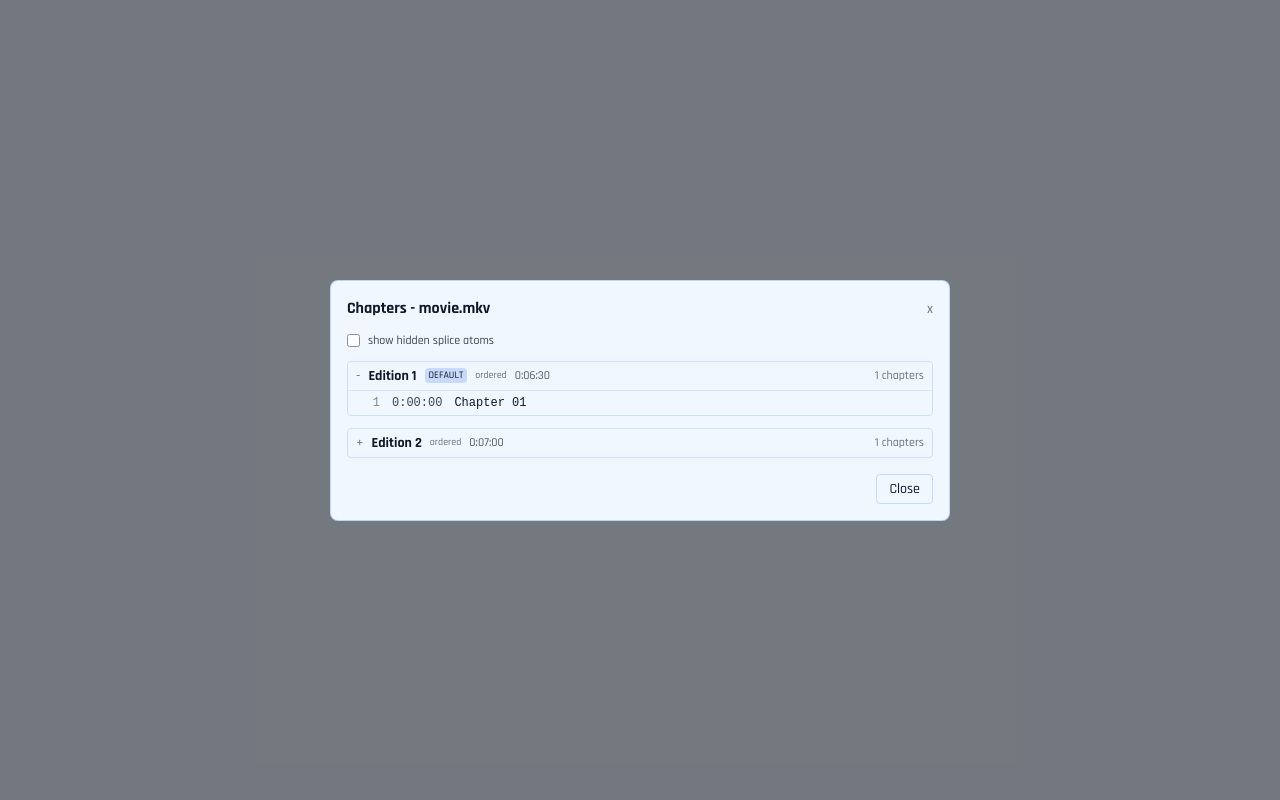
Test case: ChaptersModal › reveals hidden splice atoms when the toggle is checked
Click the checkbox labelled "show hidden splice atoms". click: click(354, 340)
box: [347,334,360,347]
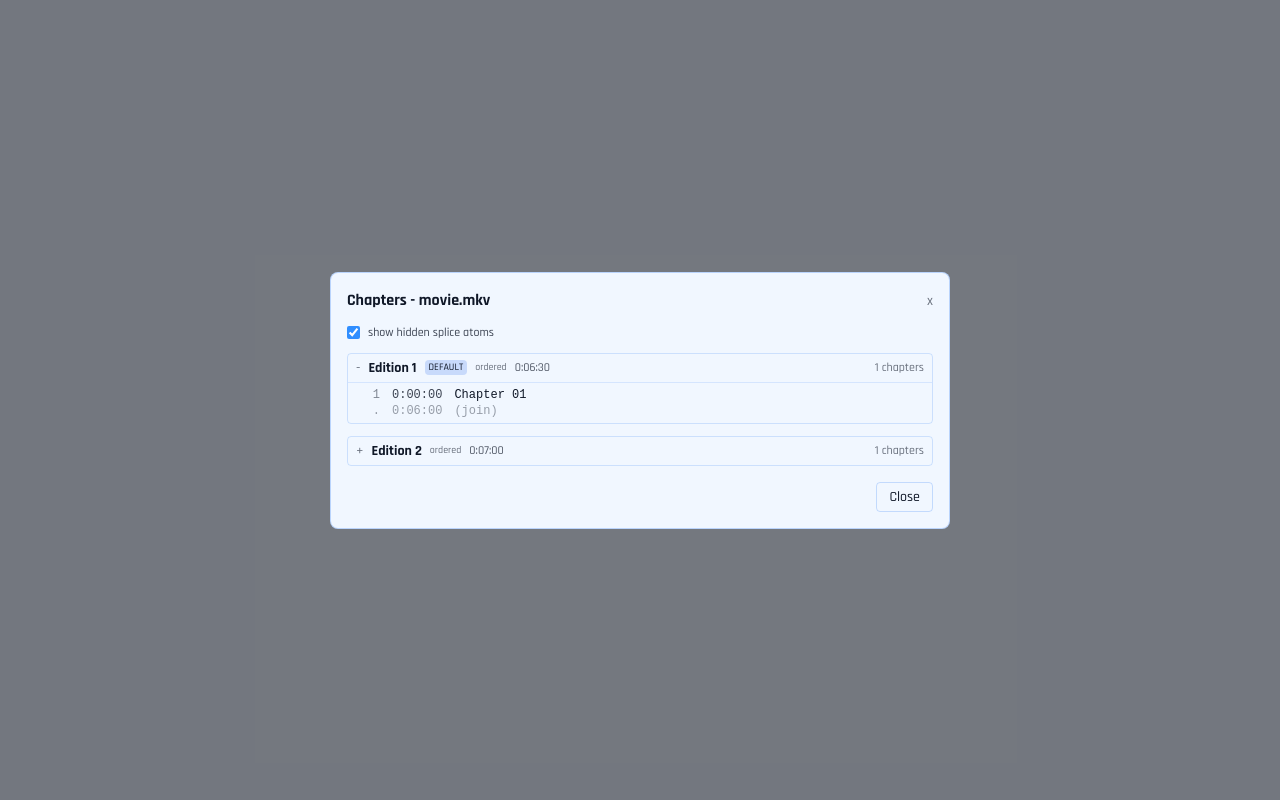
expect the text "(join)" is shown: met, box [454,402,498,418]
